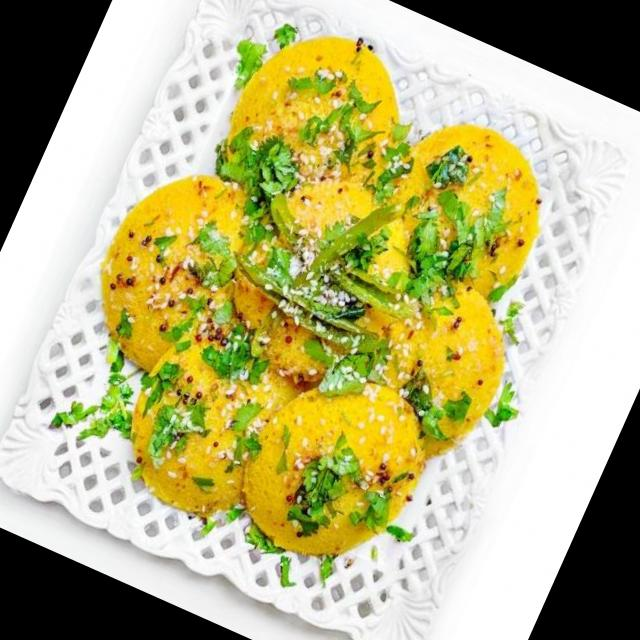dhokla: (32, 0, 605, 605)
